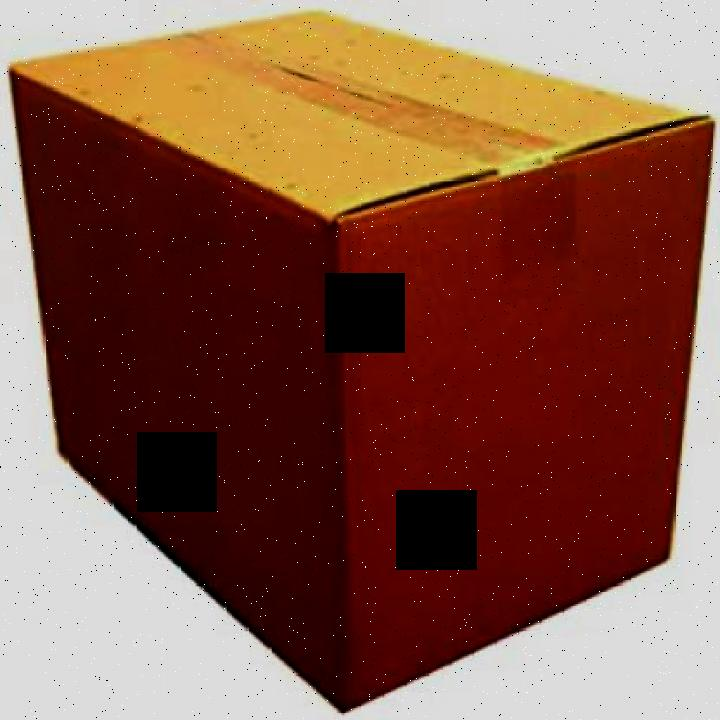box: (0, 1, 718, 718)
